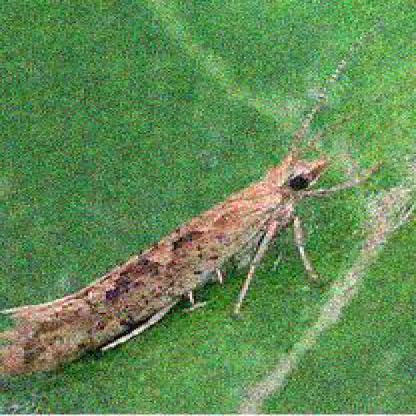plutella: (0, 107, 394, 388)
